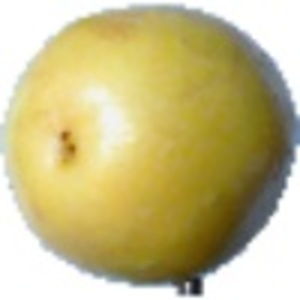maracujá: (1, 4, 300, 298)
